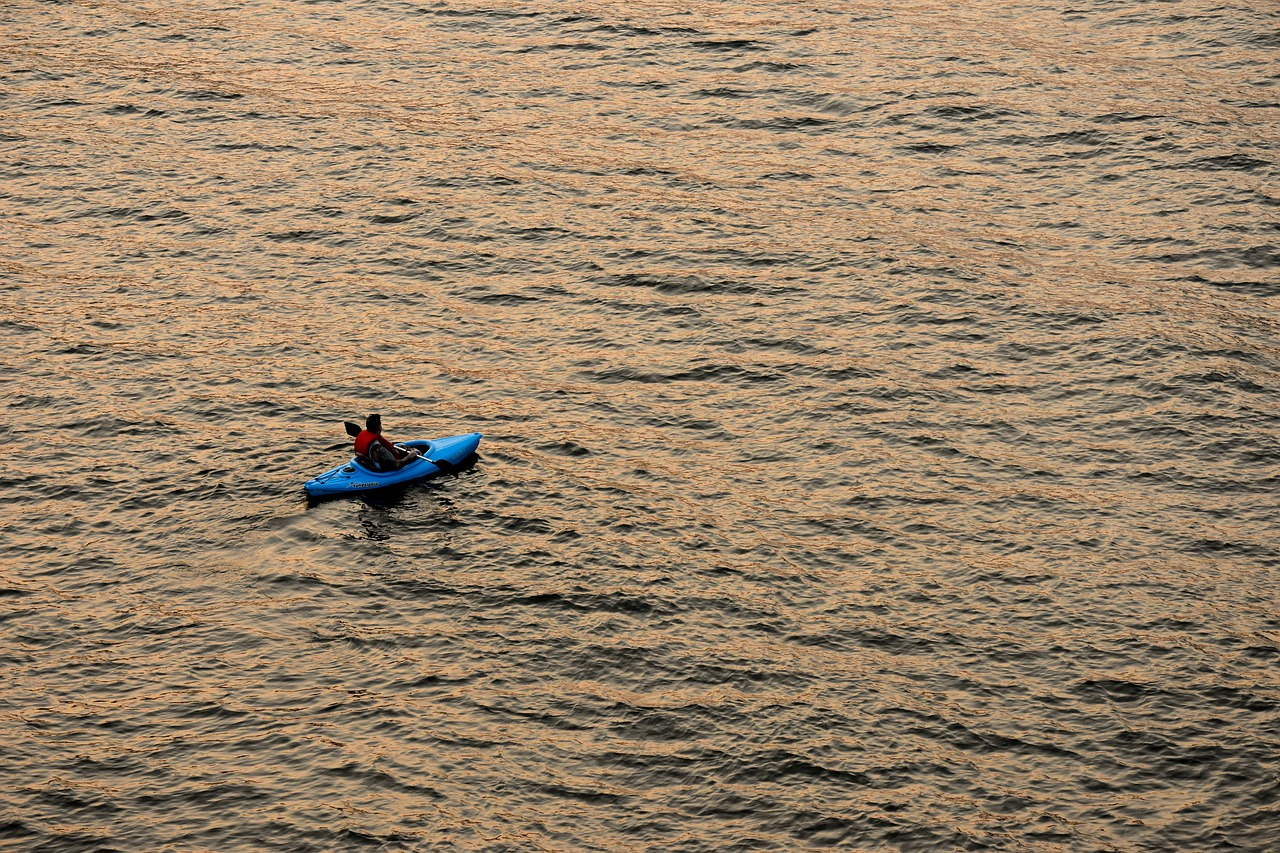kayak: (301, 429, 484, 501)
